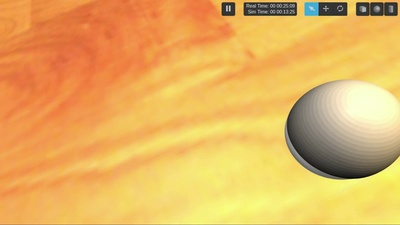mira_robot: (285, 79, 400, 180)
